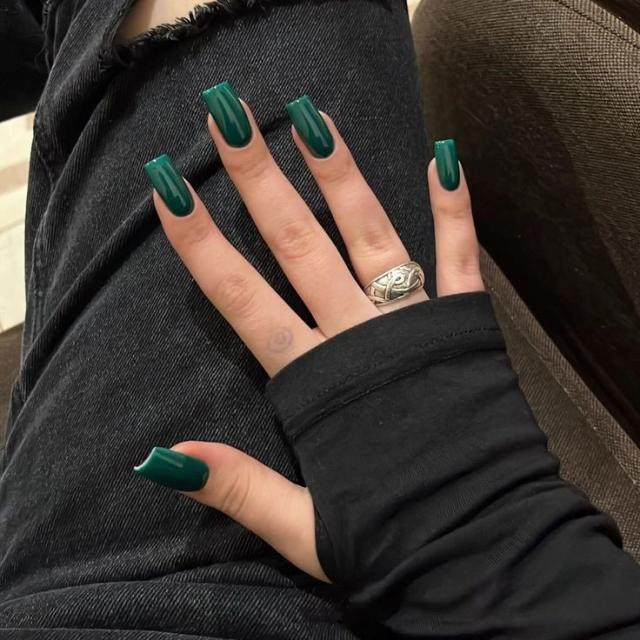Fingernail: (200, 80, 254, 149), (135, 449, 211, 493), (143, 153, 194, 217), (284, 97, 334, 160), (435, 138, 461, 191)
